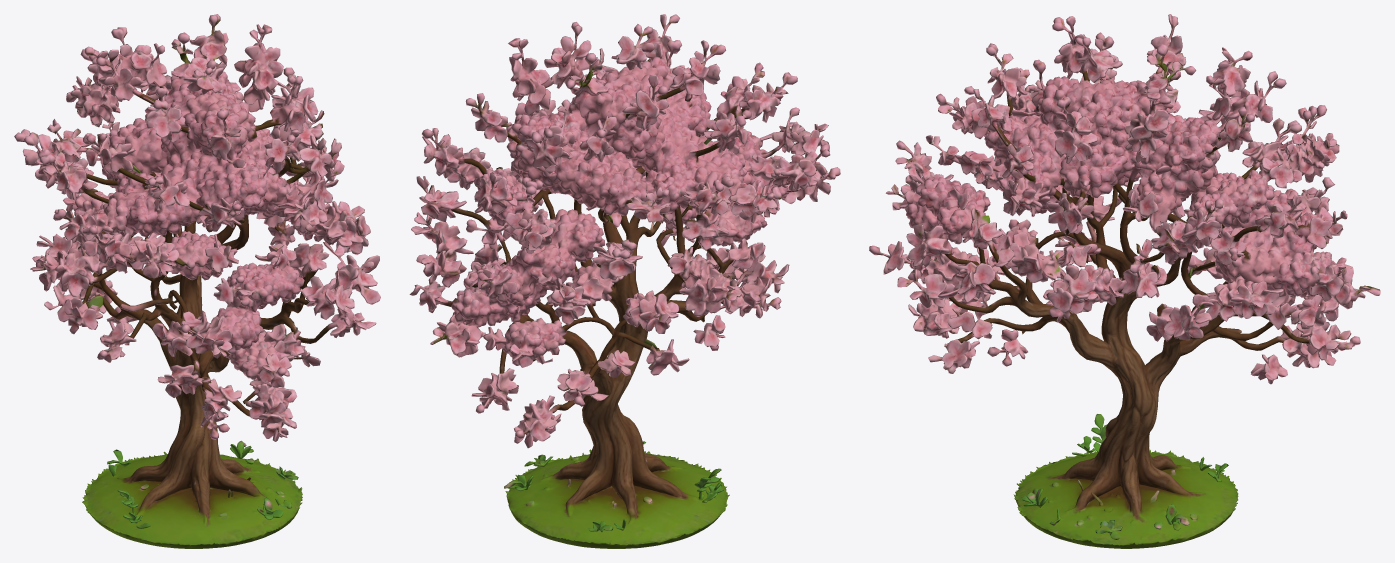
Rendered from tree_cherryblossom.glb.
3 views of the same model, side by side, from view 1: azimuth 30°, elevation 25°; view 2: azimuth 150°, elevation 25°; view 3: azimuth 270°, elevation 25° (orthographic).
Visible parts, largest first — view 1: tripo_node_18c1c5ae-644f-4b87-a72e-4728dcedb7b9; view 2: tripo_node_18c1c5ae-644f-4b87-a72e-4728dcedb7b9; view 3: tripo_node_18c1c5ae-644f-4b87-a72e-4728dcedb7b9.
Boxes of the visible parts, <box> form: tripo_node_18c1c5ae-644f-4b87-a72e-4728dcedb7b9: <box>14,14,380,548</box>; tripo_node_18c1c5ae-644f-4b87-a72e-4728dcedb7b9: <box>409,14,840,548</box>; tripo_node_18c1c5ae-644f-4b87-a72e-4728dcedb7b9: <box>869,14,1380,548</box>.
Size of the model in its own units: 0.7424 by 1 by 0.9937.
Materials: 1 (1 with a texture image).
